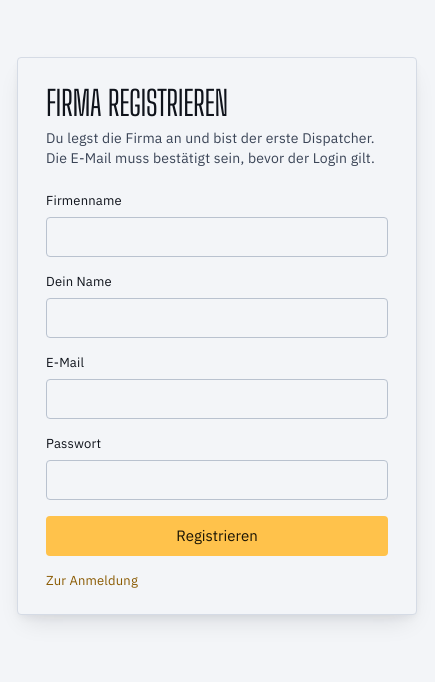
it: register page › shows a company-name field error
Type "Rheinland Logistik" into the field labelled "Firmenname". click: {"x": 217, "y": 237}
box: [46,217,388,257]
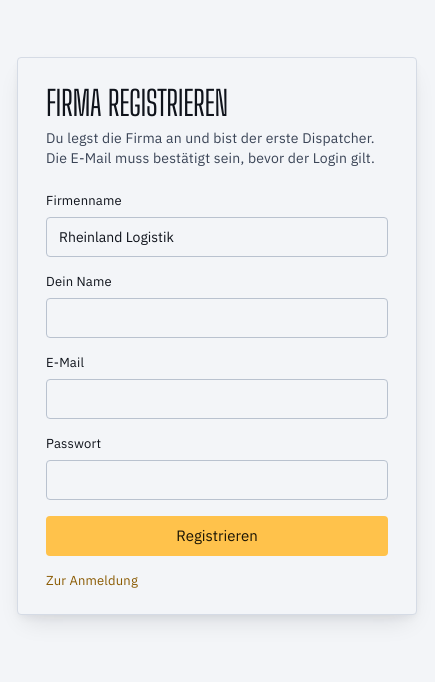
Type "Ada" into the field labelled "Dein Name". click: {"x": 217, "y": 318}
box: [46,298,388,338]
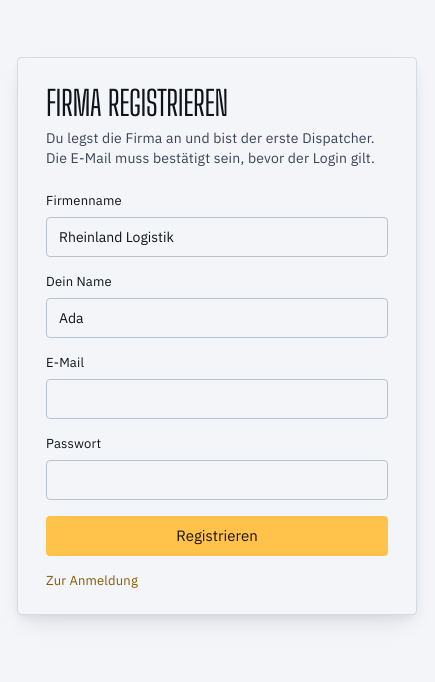
Type "ada@example.com" into the field labelled "E-Mail". click: {"x": 217, "y": 399}
box: [46,379,388,419]
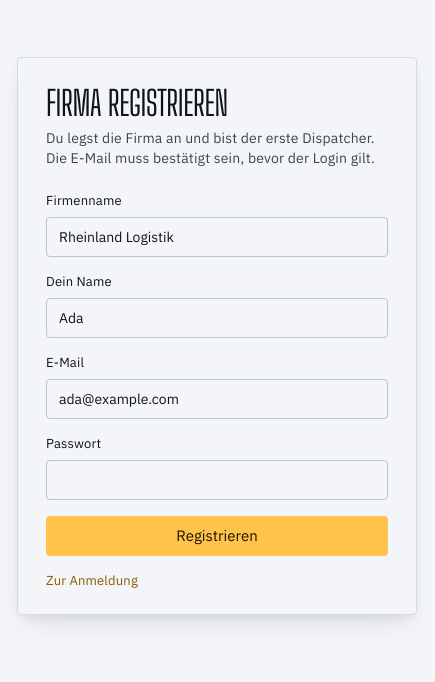
Type "development-only-password" into the password field labelled "Passwort". click: {"x": 217, "y": 480}
box: [46,460,388,500]
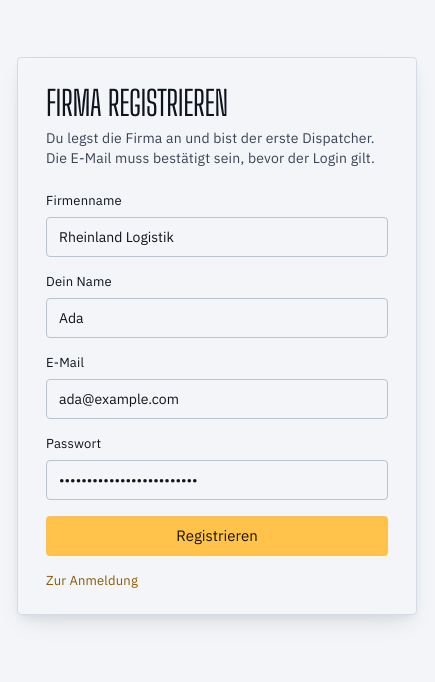
Submit the form "Registrieren", box [46,192,388,556]
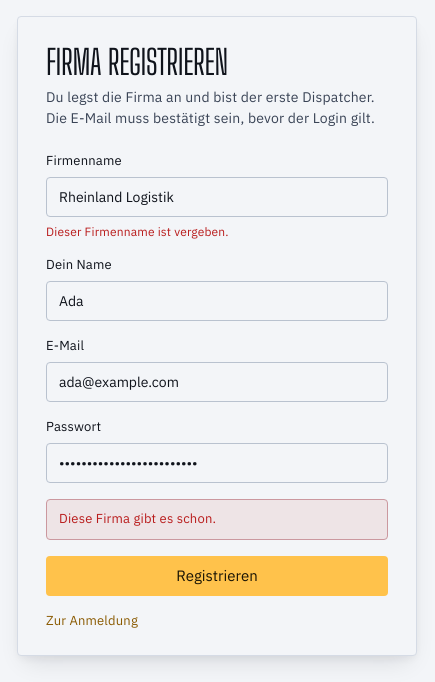
Check: the text "Dieser Firmenname ist vergeben." is shown, box [46,224,229,239]
Check: the message reads "Diese Firma gibt es schon.", box [59,510,216,527]
